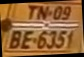character: (20, 29, 34, 49)
